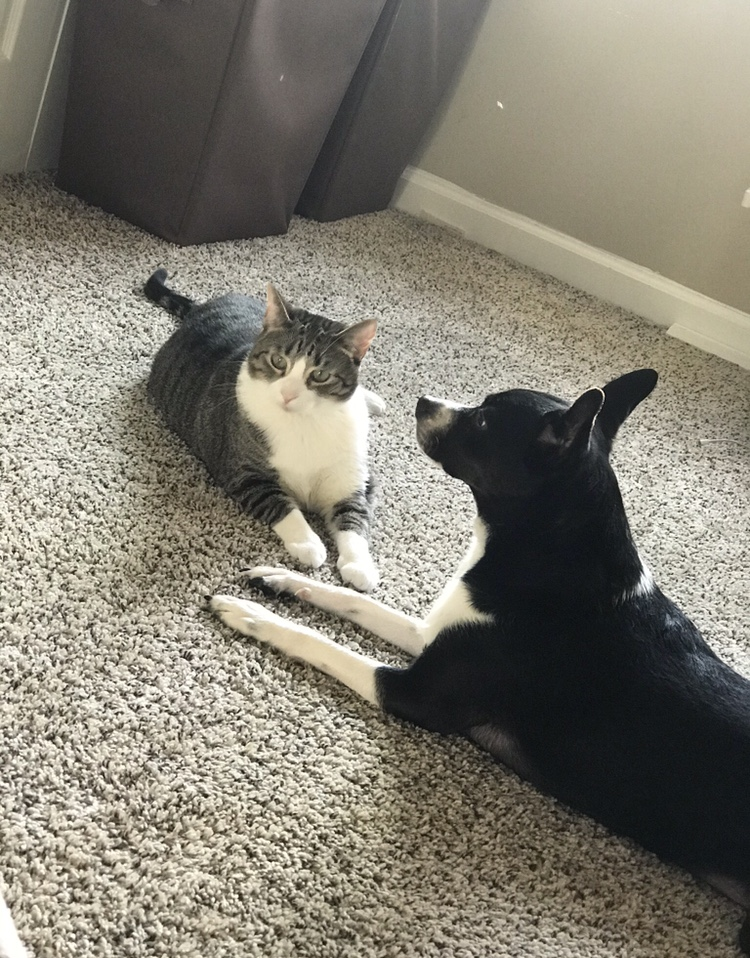Harley: (394, 368, 750, 926)
